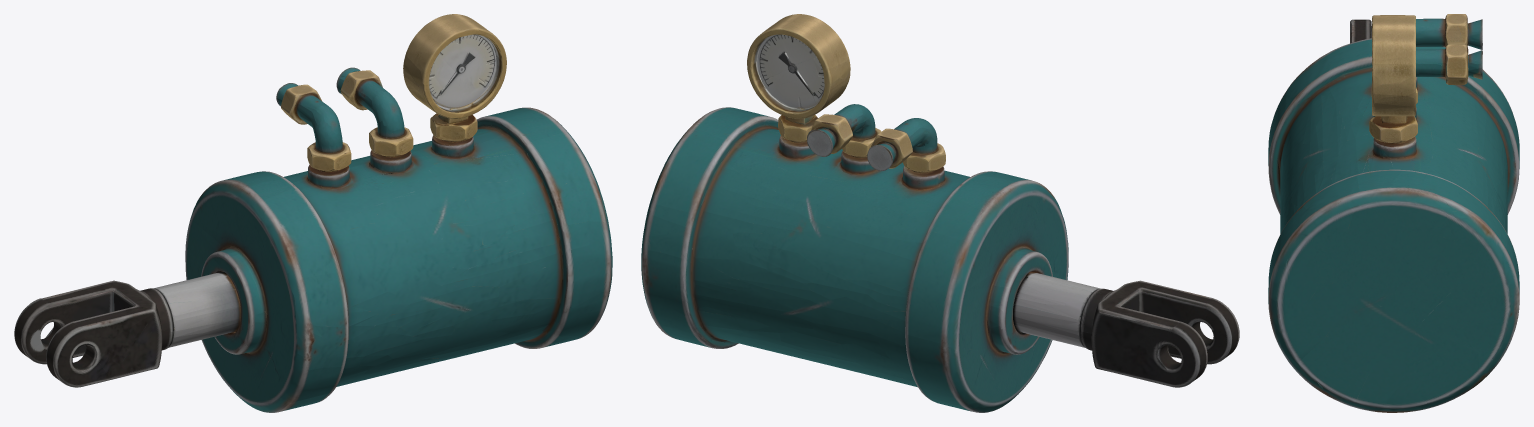
The model's file is attuatore_stagno.glb.
3 views of the same model, side by side, from view 1: azimuth 30°, elevation 25°; view 2: azimuth 150°, elevation 25°; view 3: azimuth 270°, elevation 25° (orthographic). The views are drawn at different scales.
Parts seen in each view (by area): view 1: Mesh_0; view 2: Mesh_0; view 3: Mesh_0.
Part boxes in pixels (x1,y1,x2,y2): Mesh_0: (14,14,612,412); Mesh_0: (641,14,1239,412); Mesh_0: (1268,14,1519,412).
Size of the model in its own units: 1.9 by 1.15 by 0.7604.
1 material, 1 textured.
